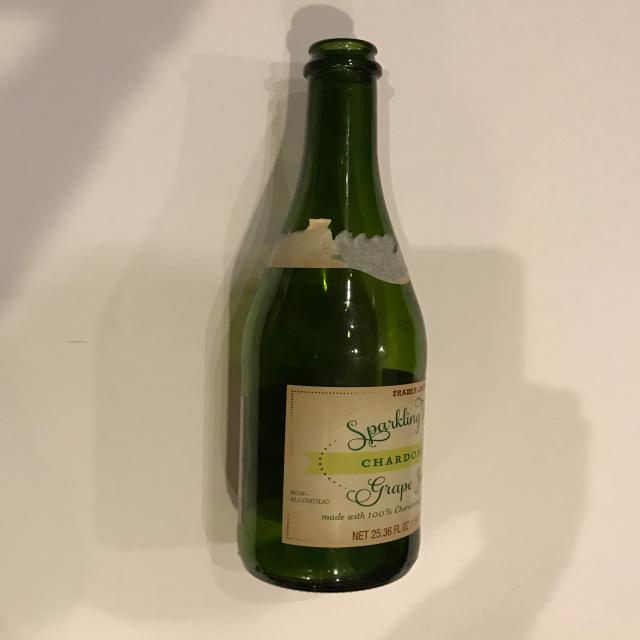Glass: (221, 31, 436, 598)
